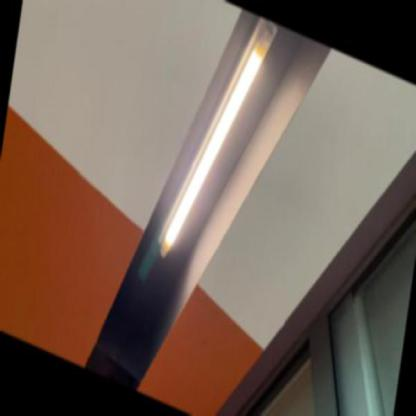light_on: (151, 0, 280, 299)
